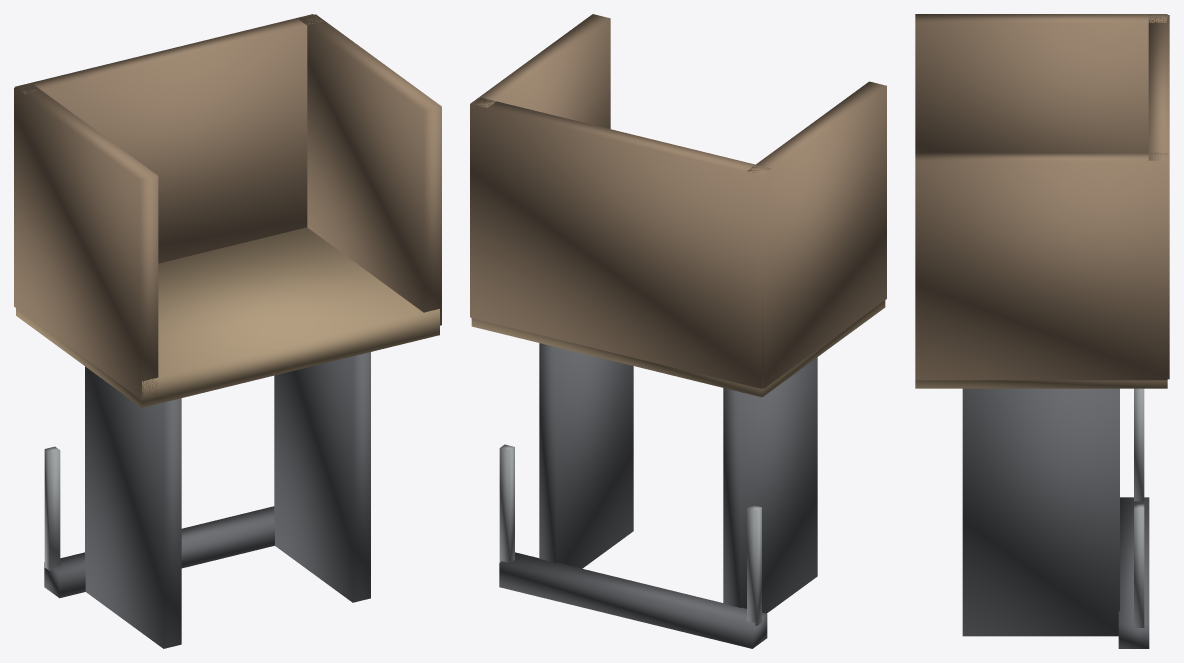
Rendered from study_carrel__reinforced.glb.
3 views of the same model, side by side, from view 1: azimuth 30°, elevation 25°; view 2: azimuth 150°, elevation 25°; view 3: azimuth 270°, elevation 25° (orthographic). The views are drawn at different scales.
Visible parts, largest first — view 1: world; view 2: world; view 3: world.
Part boxes in pixels (box(x1,y1,x2,y2)): world: box(14, 14, 441, 648); world: box(470, 14, 886, 648); world: box(915, 14, 1169, 648).
Size of the model in its own units: 0.8549 by 1.35 by 0.6231.
